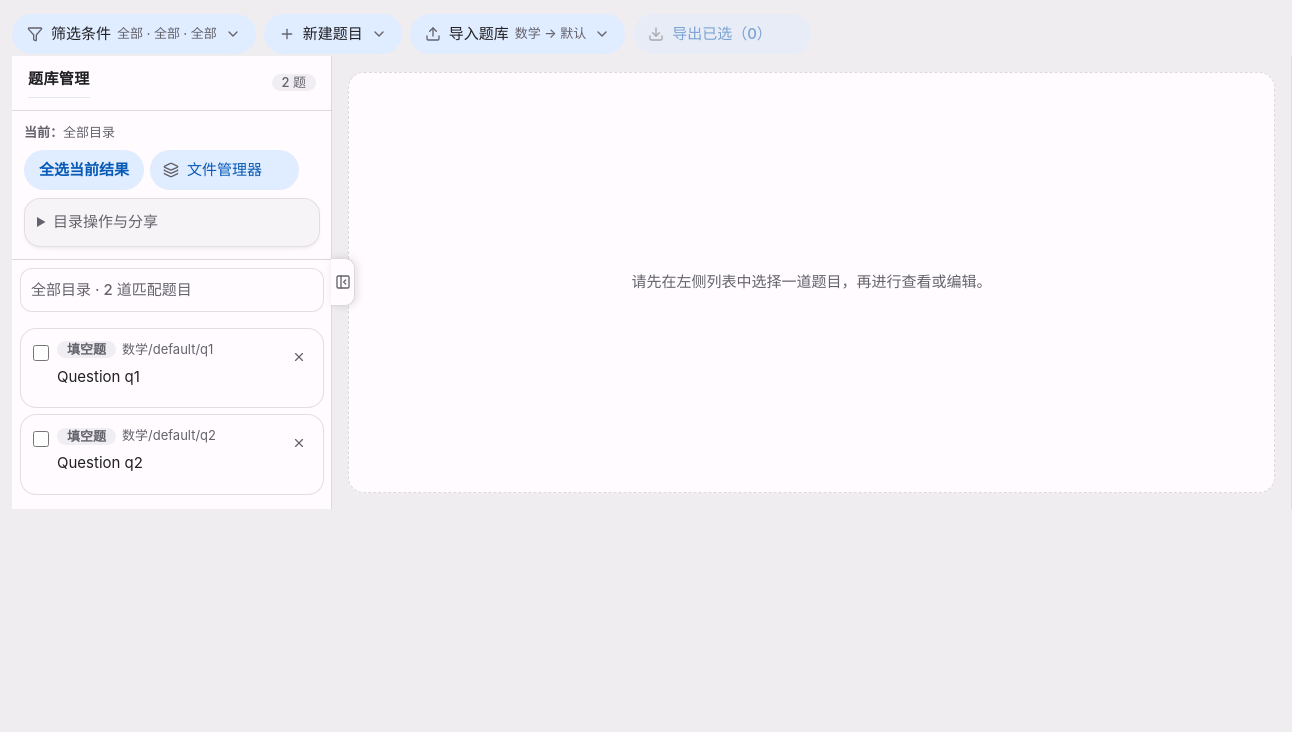
Test: bank toolbar uses the current selection and edits › updates the export count on every selection change and exports exactly the current IDs
Click the checkbox named "选择导出 数学/default/q1": click(41, 353) [33,345,49,361]
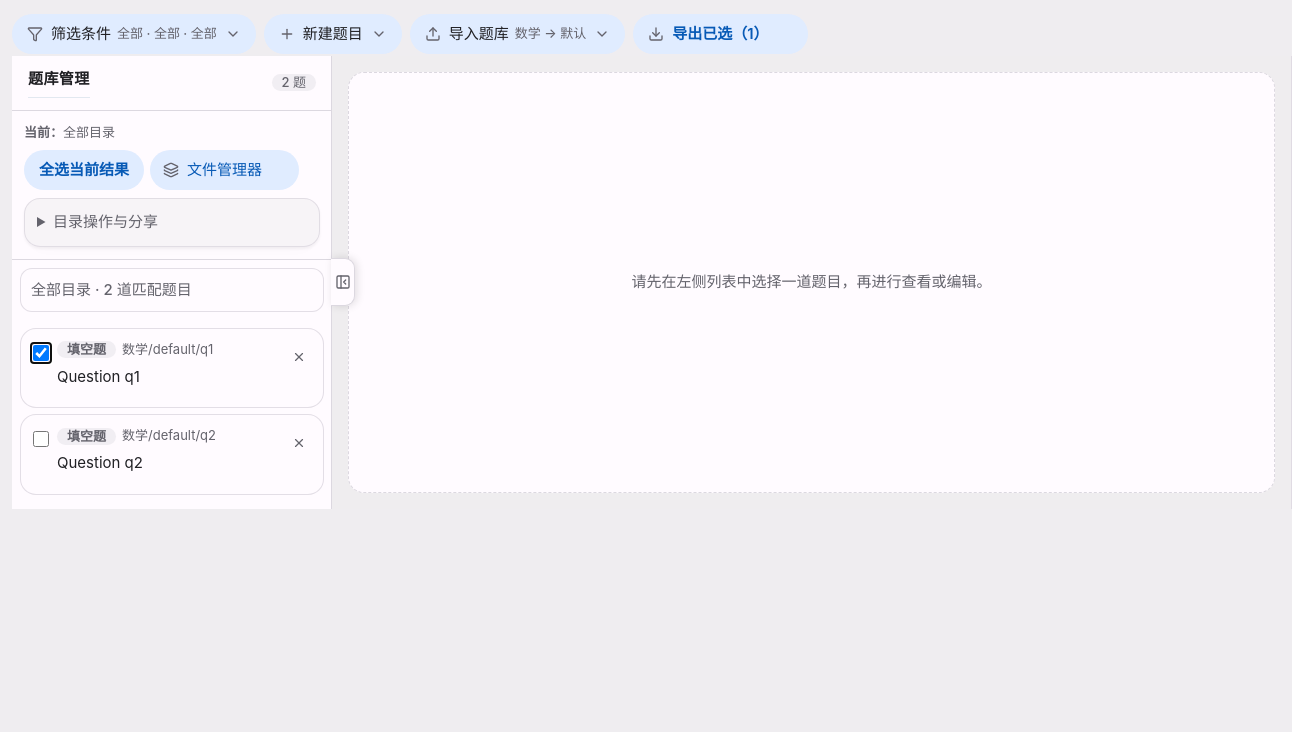
Now the button "导出已选（1）" is enabled, box [633,14,808,54]
Click the checkbox named "选择导出 数学/default/q2": click(41, 439) [33,431,49,447]
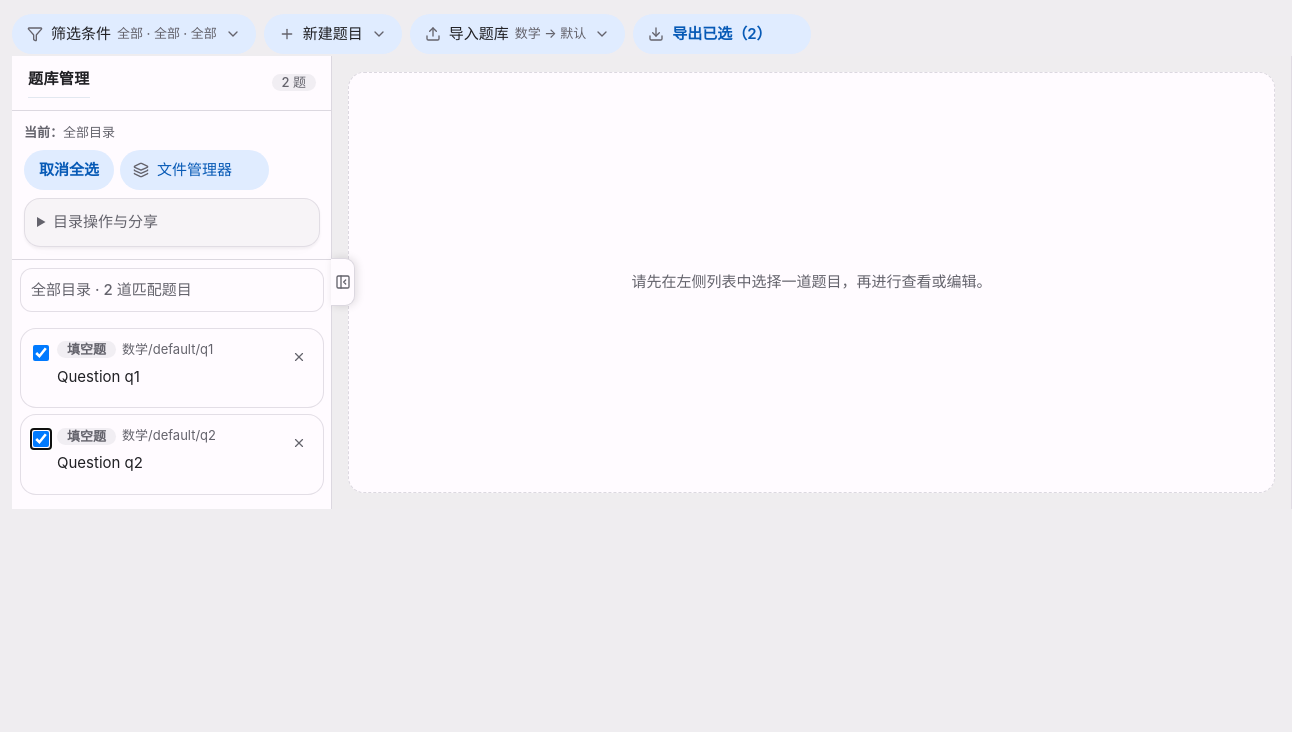
Now the button "导出已选（2）" is enabled, box [633,14,810,54]
Click the checkbox named "选择导出 数学/default/q1": click(41, 353) [33,345,49,361]
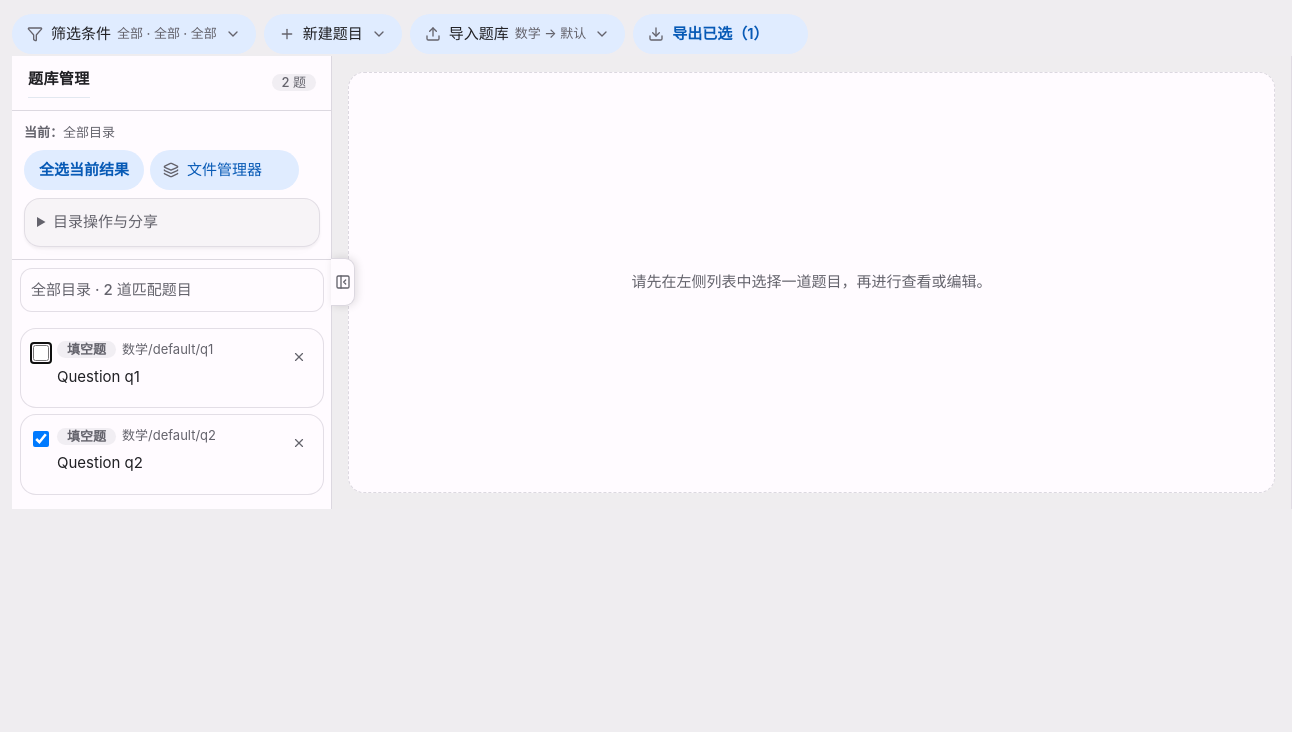
Click the button "导出已选（1）": click(720, 34) [633,14,808,54]
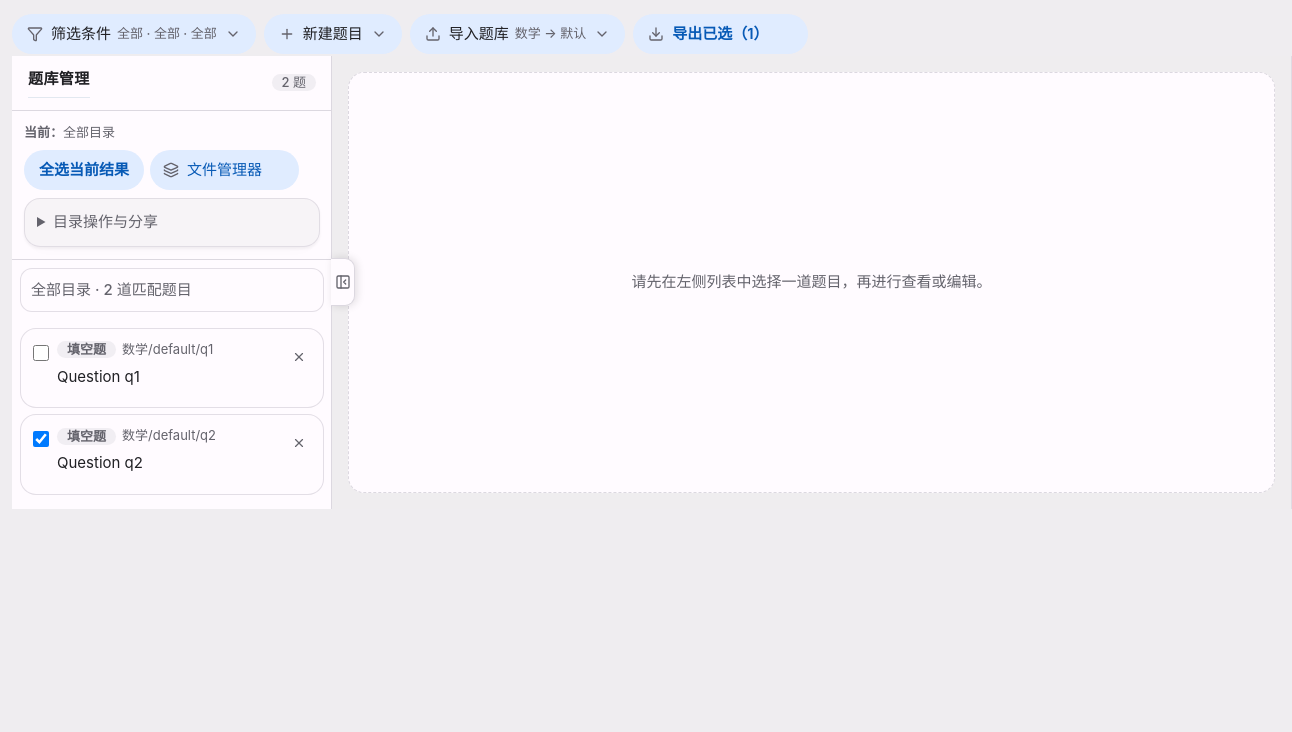
Click the checkbox named "选择导出 数学/default/q2": click(41, 439) [33,431,49,447]
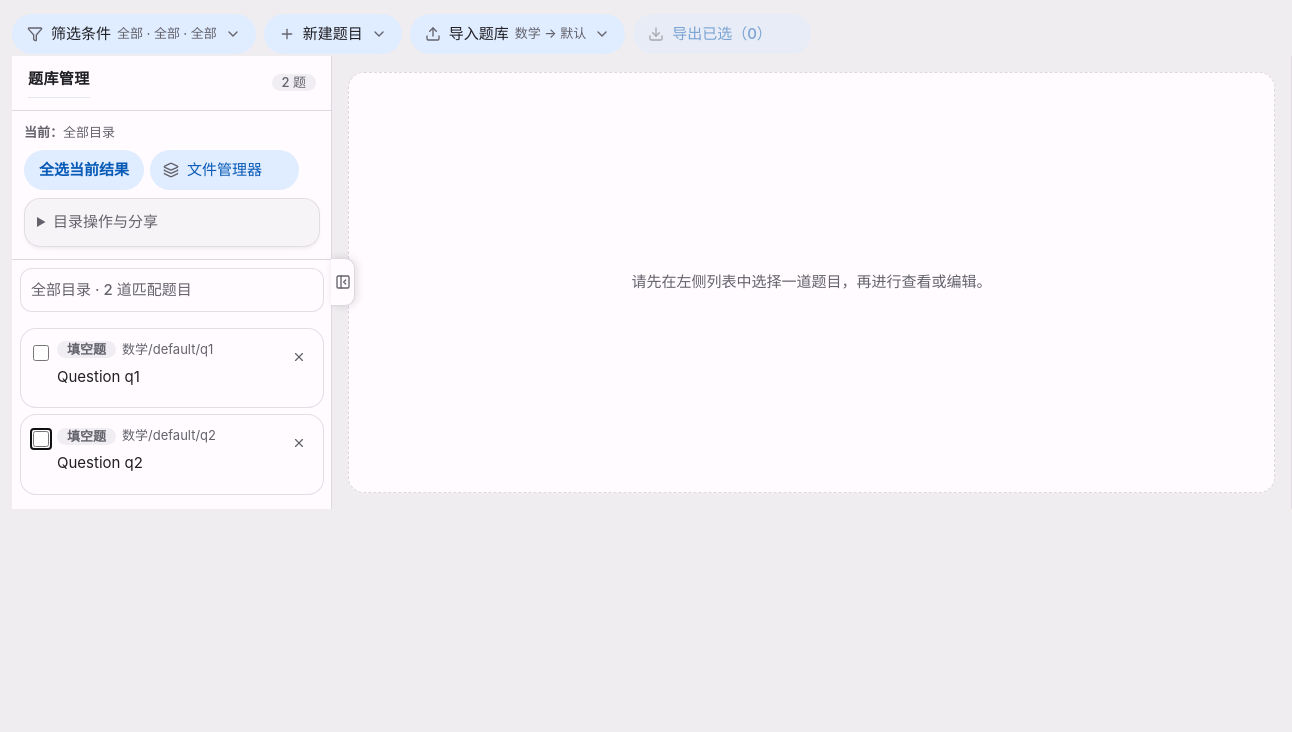
Now the button "导出已选（0）" is disabled, box [633,14,811,54]
